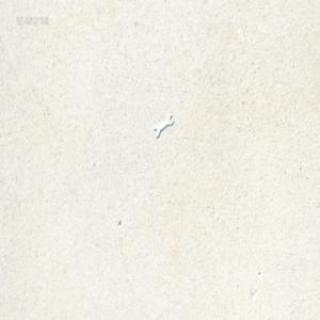Wrenchtrack_idkeyframe: (152, 113, 173, 138)
